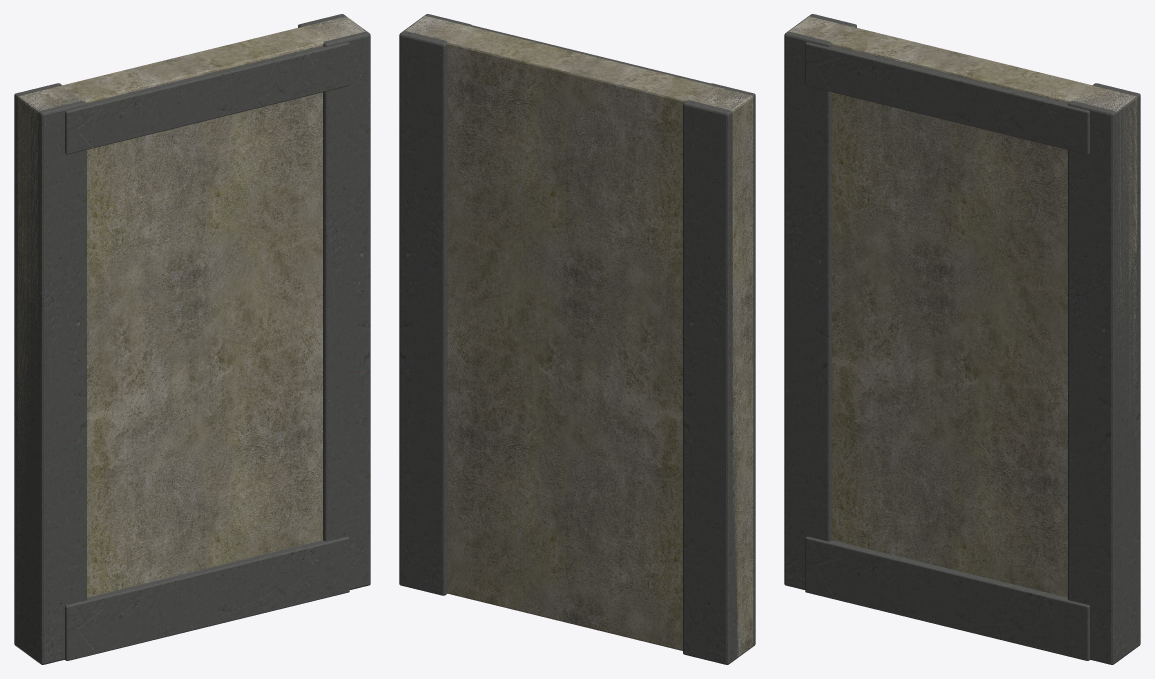
Rendered from wall_solid_2m.glb.
3 views of the same model, side by side, from view 1: azimuth 30°, elevation 25°; view 2: azimuth 150°, elevation 25°; view 3: azimuth 330°, elevation 25° (orthographic).
Visible parts, largest first — view 1: Two metre masonry infill, Cast concrete edge pier, Cast concrete edge pier.001, Foundation band, Upper ring beam; view 2: Two metre masonry infill, Cast concrete edge pier, Cast concrete edge pier.001, Upper ring beam; view 3: Two metre masonry infill, Cast concrete edge pier.001, Cast concrete edge pier, Foundation band, Upper ring beam.
Boxes of the visible parts, x1=… form: Two metre masonry infill: x1=17, y1=16, x2=365, y2=654; Cast concrete edge pier: x1=14, y1=83, x2=86, y2=664; Cast concrete edge pier.001: x1=298, y1=14, x2=370, y2=589; Foundation band: x1=64, y1=536, x2=349, y2=660; Upper ring beam: x1=65, y1=42, x2=349, y2=154; Two metre masonry infill: x1=405, y1=16, x2=753, y2=661; Cast concrete edge pier: x1=683, y1=83, x2=755, y2=664; Cast concrete edge pier.001: x1=399, y1=14, x2=471, y2=595; Upper ring beam: x1=472, y1=25, x2=709, y2=84; Two metre masonry infill: x1=789, y1=16, x2=1137, y2=652; Cast concrete edge pier.001: x1=1068, y1=83, x2=1140, y2=664; Cast concrete edge pier: x1=784, y1=14, x2=856, y2=589; Foundation band: x1=805, y1=536, x2=1090, y2=660; Upper ring beam: x1=805, y1=42, x2=1089, y2=154.
Size of the model in its own units: 2 by 3.2 by 0.3175.
Materials: 2 (2 with a texture image).
